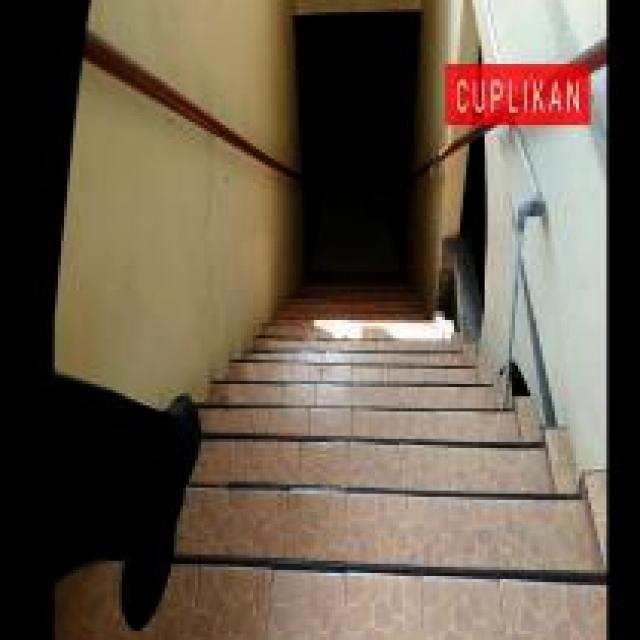downstair: (226, 318, 507, 571)
